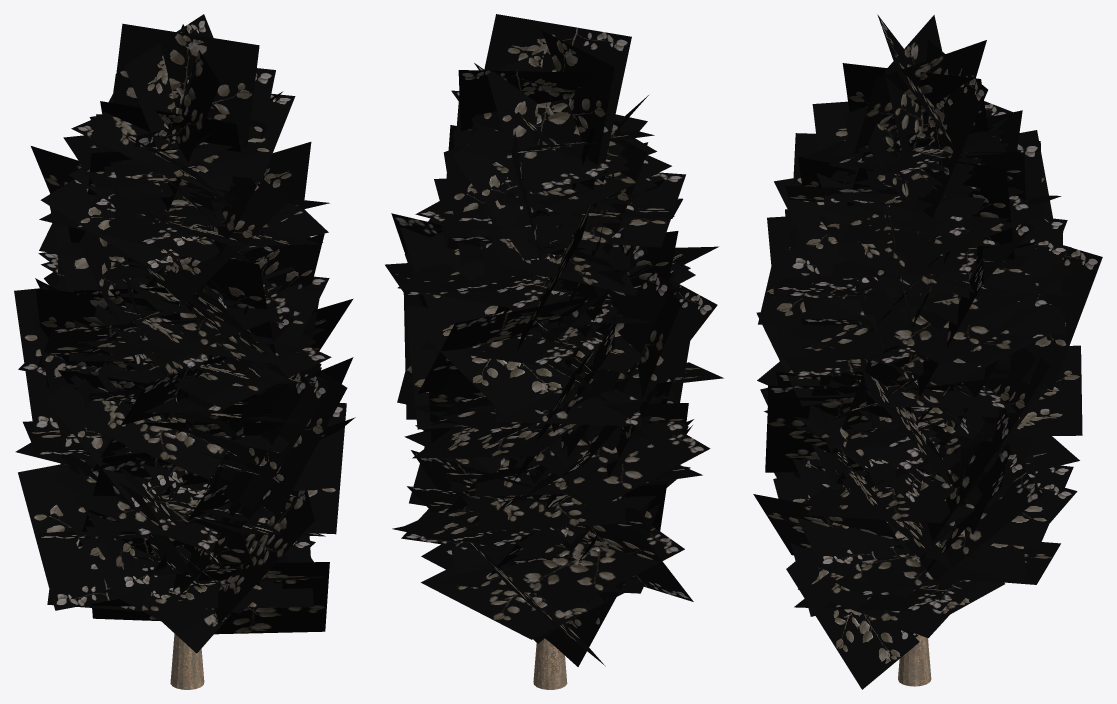
Rendered from IntroConifer.fbx.
3 renders of one model, left to right at view 1: azimuth 30°, elevation 25°; view 2: azimuth 150°, elevation 25°; view 3: azimuth 270°, elevation 25°, orthographic. The views are drawn at different scales.
Parts seen in each view (by area): view 1: Leaves, Tree; view 2: Leaves, Tree; view 3: Leaves, Tree.
Boxes of the visible parts, x1,y1,x2,y2 form: Leaves: [14, 14, 355, 653]; Tree: [170, 633, 204, 689]; Leaves: [385, 14, 723, 666]; Tree: [533, 638, 567, 689]; Leaves: [753, 14, 1102, 689]; Tree: [898, 635, 931, 686].
Size of the model in its own units: 12.09 by 24.43 by 12.18.
2 materials, 2 textured.
